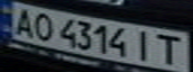1: (90, 22, 109, 54)
3: (72, 19, 93, 52)
4: (54, 16, 78, 48), (109, 25, 130, 57)
A: (6, 6, 39, 37)
I: (130, 28, 157, 62)
O: (27, 11, 57, 42)
T: (151, 32, 187, 65)
